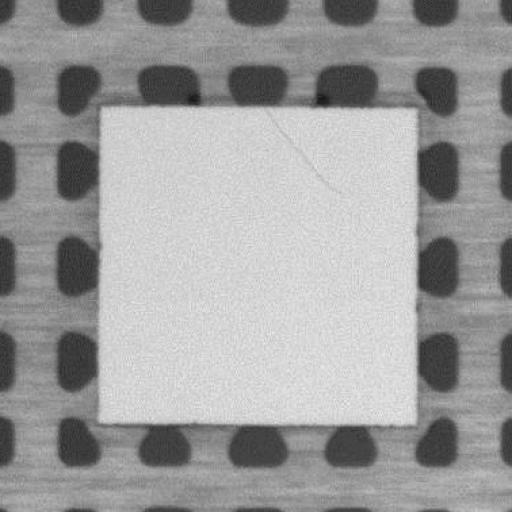DIE_CRACK: (261, 106, 343, 194)
